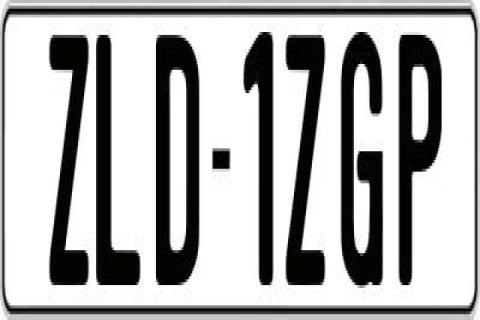0: (240, 32, 274, 288)
D: (154, 26, 196, 291)
G: (338, 27, 380, 286)
L: (94, 35, 140, 297)
P: (398, 26, 441, 276)
Z: (284, 32, 326, 288), (46, 26, 86, 294)
